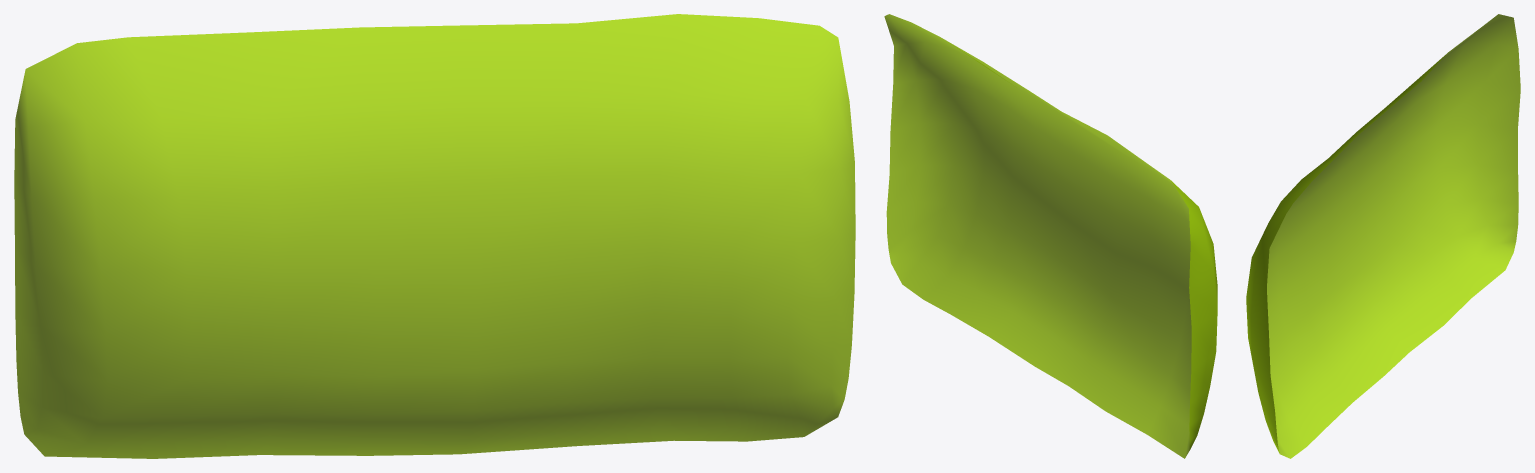
The model's file is smallScreenGlass.fbx.
3 renders of one model, left to right at view 1: azimuth 30°, elevation 25°; view 2: azimuth 150°, elevation 25°; view 3: azimuth 270°, elevation 25°, orthographic. The views are drawn at different scales.
Visible parts, largest first — view 1: smallScreenGlass; view 2: smallScreenGlass; view 3: smallScreenGlass.
Boxes of the visible parts, x1,y1,x2,y2 form: smallScreenGlass: (14,14,855,458); smallScreenGlass: (884,14,1217,458); smallScreenGlass: (1246,14,1520,458).
Size of the model in its own units: 55.79 by 34.41 by 31.29.
